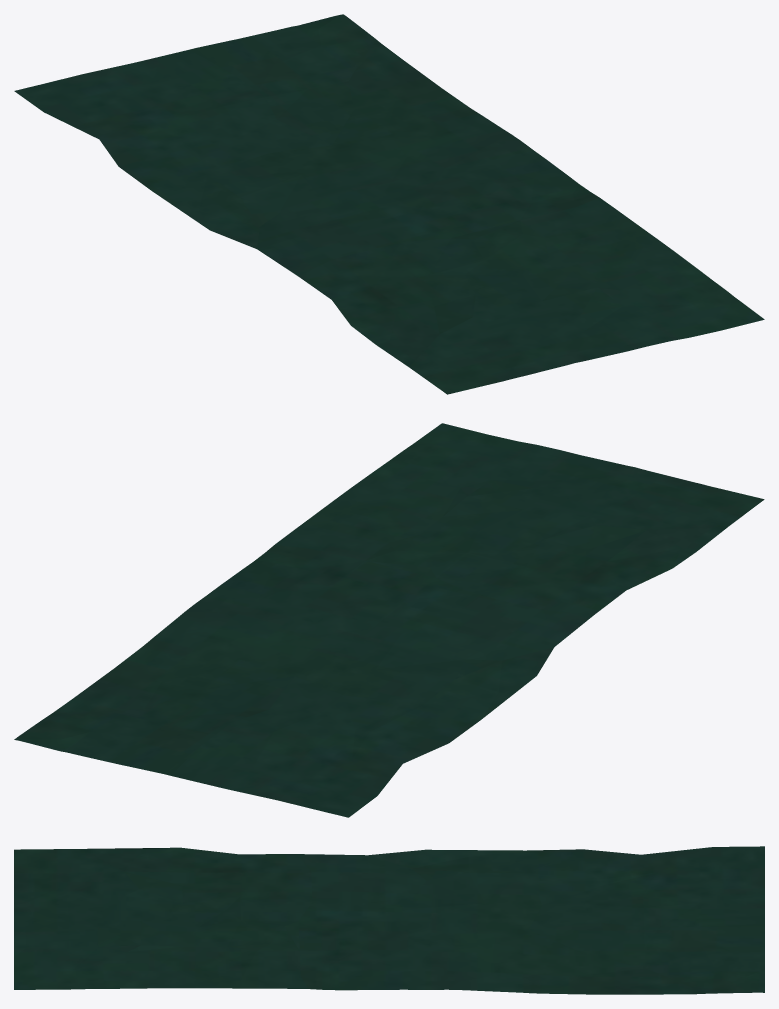
The picture shows the model from 3 angles, top to bottom: view 1: azimuth 30°, elevation 25°; view 2: azimuth 150°, elevation 25°; view 3: azimuth 270°, elevation 25°; orthographic projection. The views are drawn at different scales.
Size of the model in its own units: 23.56 by 0.7529 by 52.22.
1 material, 1 textured.
